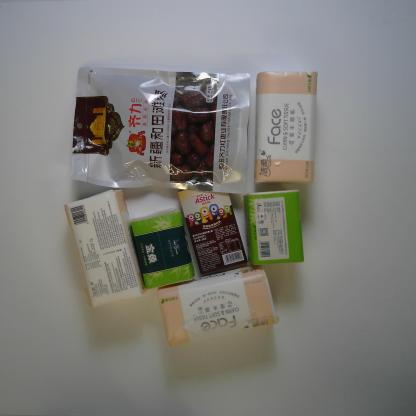Dessert: (178, 186, 248, 278)
Dried Food: (68, 63, 252, 195)
Tissue: (60, 187, 148, 309), (156, 264, 279, 350), (252, 68, 320, 186), (129, 206, 196, 290), (243, 189, 306, 268)
